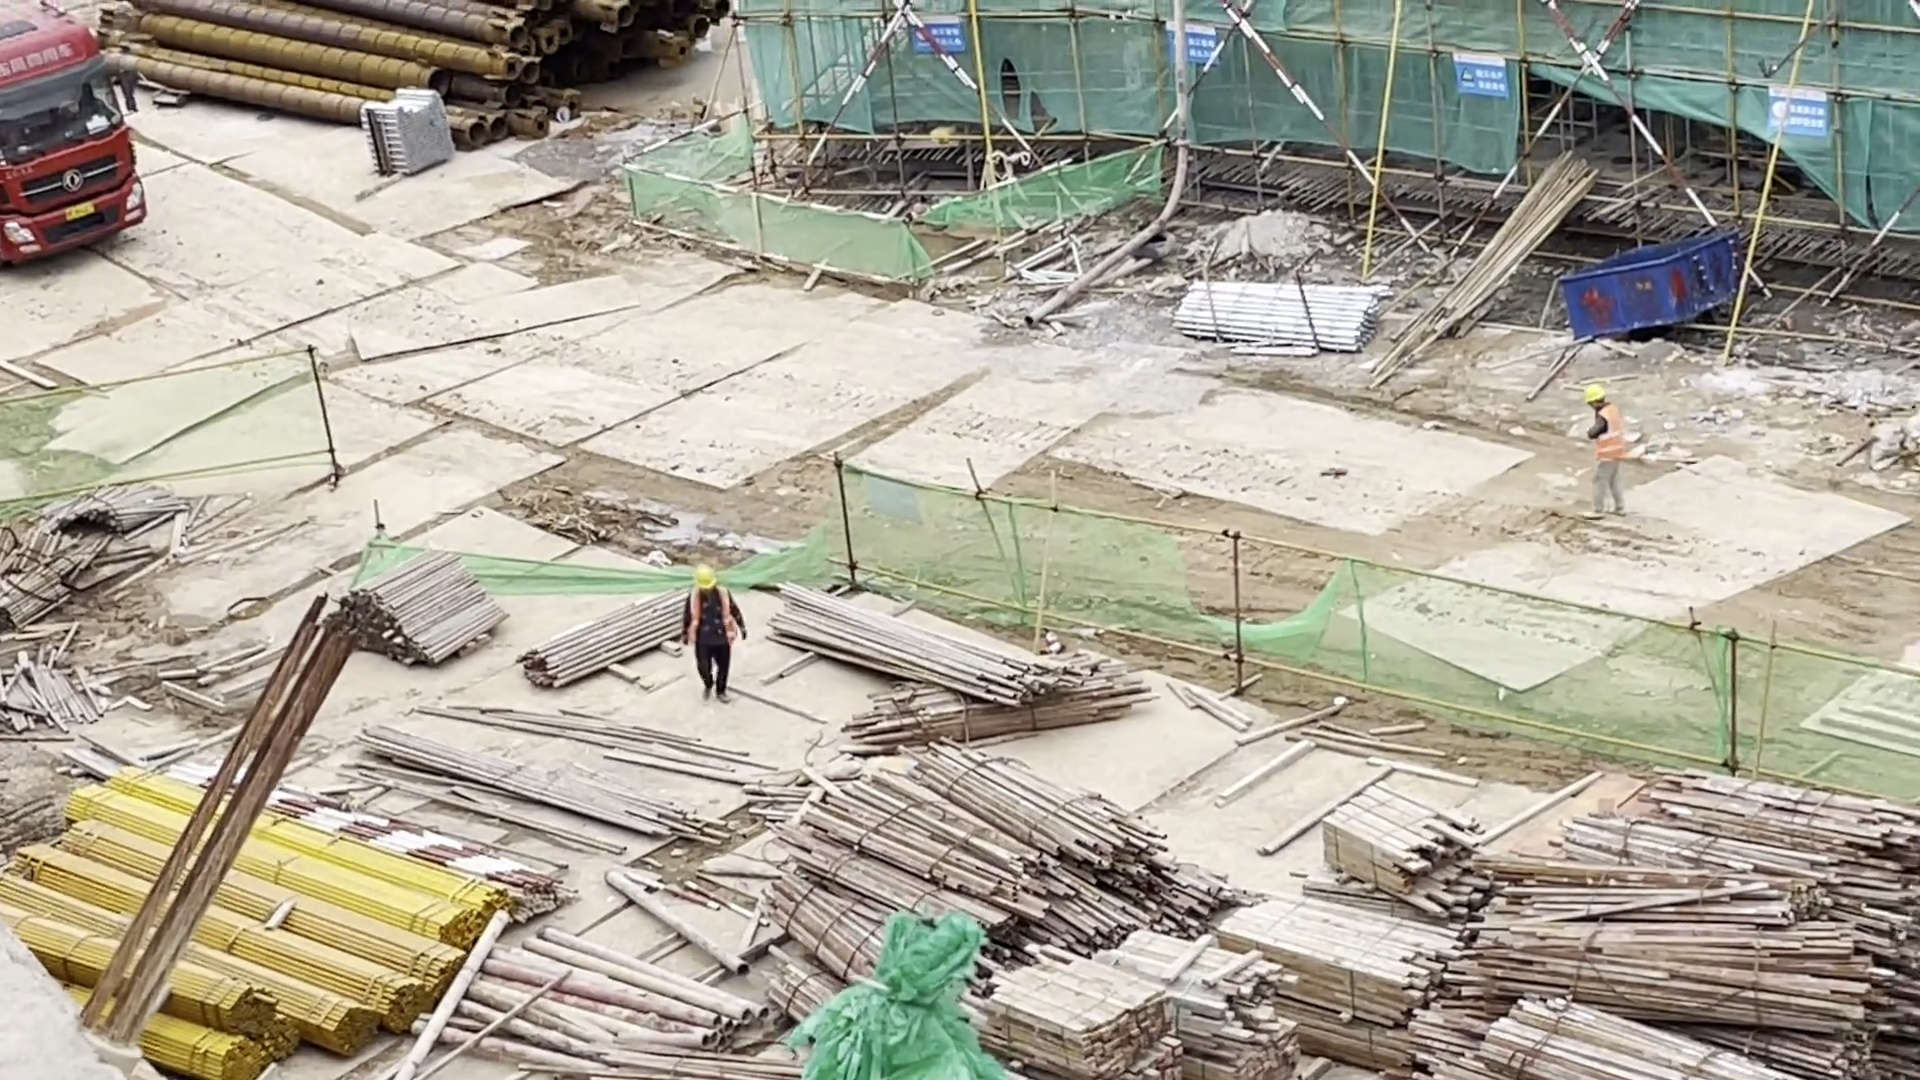brick: (360, 92, 460, 187)
helmet: (685, 564, 724, 586), (1578, 390, 1613, 410)
hopper: (1564, 240, 1742, 339)
person: (676, 559, 736, 707), (1578, 385, 1639, 525)
scaffold: (782, 762, 1217, 949), (769, 572, 1154, 740), (331, 551, 512, 668), (1179, 265, 1381, 358), (523, 599, 682, 676)
vest: (1595, 407, 1630, 461)
wood: (1496, 754, 1915, 1080), (985, 935, 1315, 1080), (1222, 876, 1454, 1067), (1320, 767, 1485, 904)
